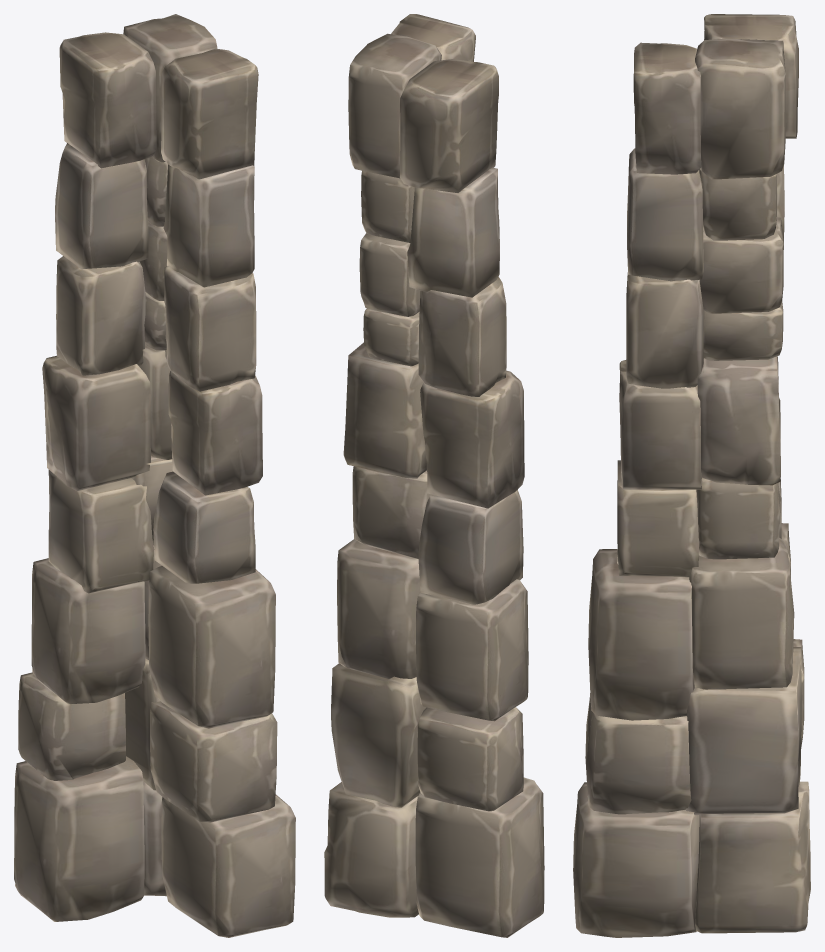
File: Corner_ExteriorWide_Brick.gltf
The picture shows the model from 3 angles, left to right: view 1: azimuth 30°, elevation 25°; view 2: azimuth 150°, elevation 25°; view 3: azimuth 270°, elevation 25°; orthographic projection. The views are drawn at different scales.
Visible parts, largest first — view 1: Corner_ExteriorWide_Brick; view 2: Corner_ExteriorWide_Brick; view 3: Corner_ExteriorWide_Brick.
Part boxes in pixels (<box>): Corner_ExteriorWide_Brick: <box>14,14,295,937</box>; Corner_ExteriorWide_Brick: <box>324,14,544,937</box>; Corner_ExteriorWide_Brick: <box>573,14,810,937</box>.
Size of the model in its own units: 0.7123 by 3.04 by 0.7564.
1 material, 1 textured.
